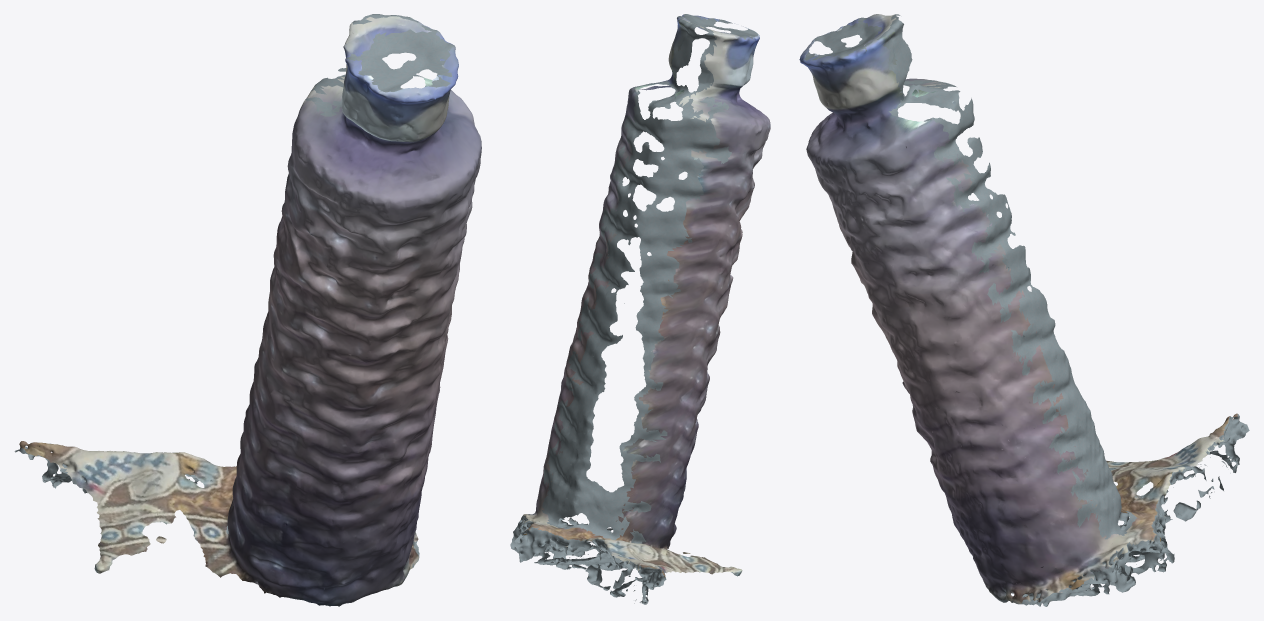
The model's file is Demo_textured_mesh_medpoly_glb.glb.
3 renders of one model, left to right at view 1: azimuth 30°, elevation 25°; view 2: azimuth 150°, elevation 25°; view 3: azimuth 270°, elevation 25°, orthographic. The views are drawn at different scales.
Size of the model in its own units: 1.05 by 2.14 by 1.61.
Materials: 13 (13 with a texture image).
